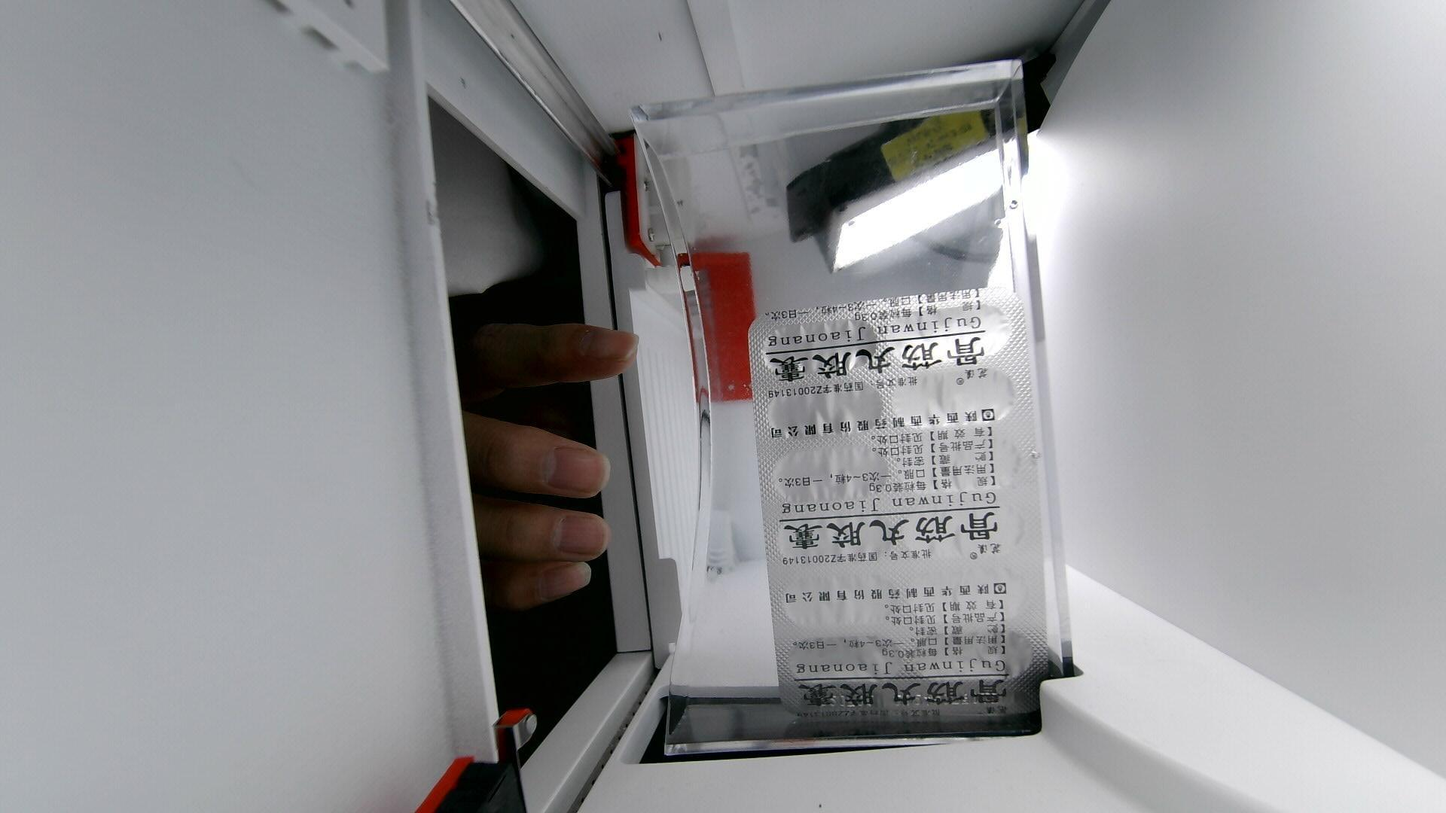Pill Back: (761, 308, 883, 383), (892, 300, 1018, 356), (893, 367, 1019, 422), (758, 446, 889, 498), (907, 439, 1016, 499), (781, 572, 900, 625), (779, 632, 902, 681), (769, 388, 886, 435), (914, 632, 1030, 678), (776, 507, 890, 552), (903, 507, 1016, 552), (920, 574, 1008, 620)
